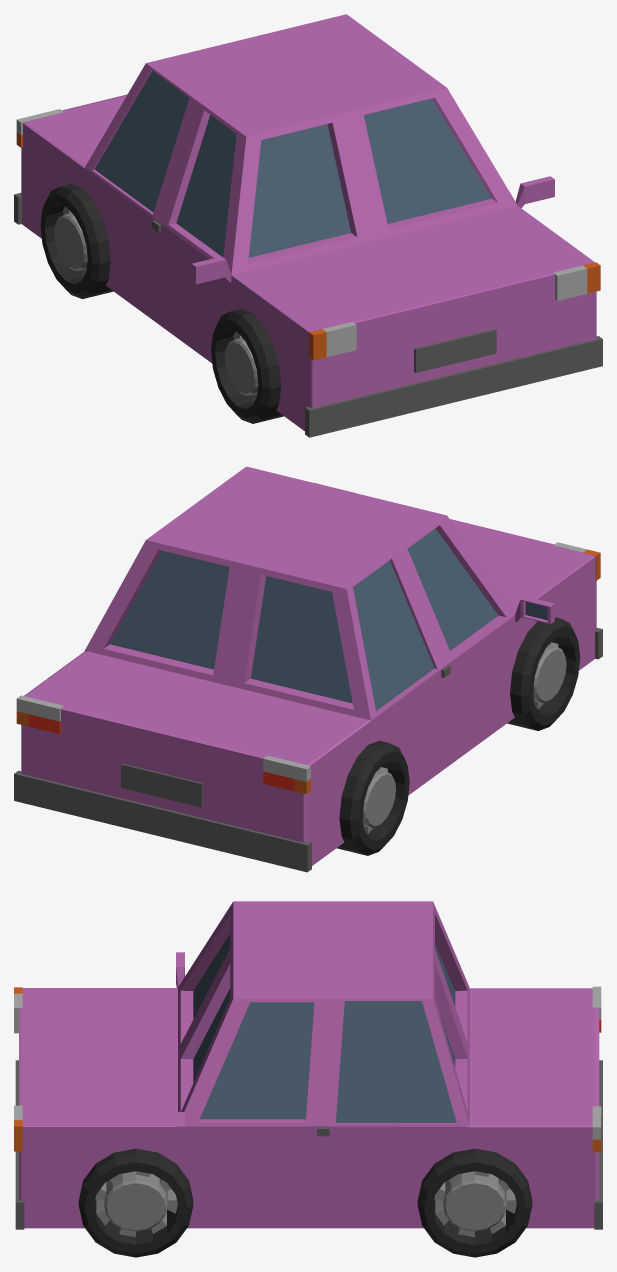
Rendered from PinkCar.fbx.
The picture shows the model from 3 angles, top to bottom: view 1: azimuth 30°, elevation 25°; view 2: azimuth 150°, elevation 25°; view 3: azimuth 270°, elevation 25°; orthographic projection.
Visible parts, largest first — view 1: Pink; view 2: Pink; view 3: Pink.
Boxes of the visible parts, box(x1,y1,x2,y2) form: Pink: box(14, 14, 602, 437); Pink: box(14, 466, 602, 872); Pink: box(14, 901, 602, 1257).
Size of the model in its own units: 216 by 134 by 308.
